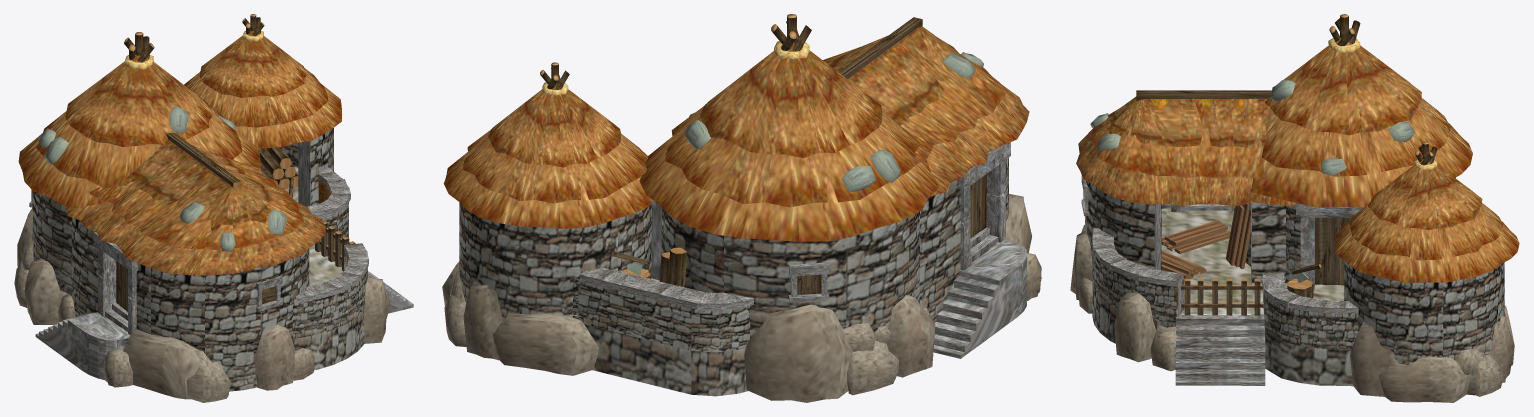
The model's file is lusi_new_storehouse.dae.
3 views of the same model, side by side, from view 1: azimuth 30°, elevation 25°; view 2: azimuth 150°, elevation 25°; view 3: azimuth 270°, elevation 25° (orthographic). The views are drawn at different scales.
Visible parts, largest first — view 1: lusi_storehouse; view 2: lusi_storehouse; view 3: lusi_storehouse.
Boxes of the visible parts, x1,y1,x2,y2 form: lusi_storehouse: (14, 14, 413, 402); lusi_storehouse: (442, 14, 1041, 402); lusi_storehouse: (1070, 14, 1519, 402).
Bounding box in the file's own units: 19.75 × 21 × 14.04.
